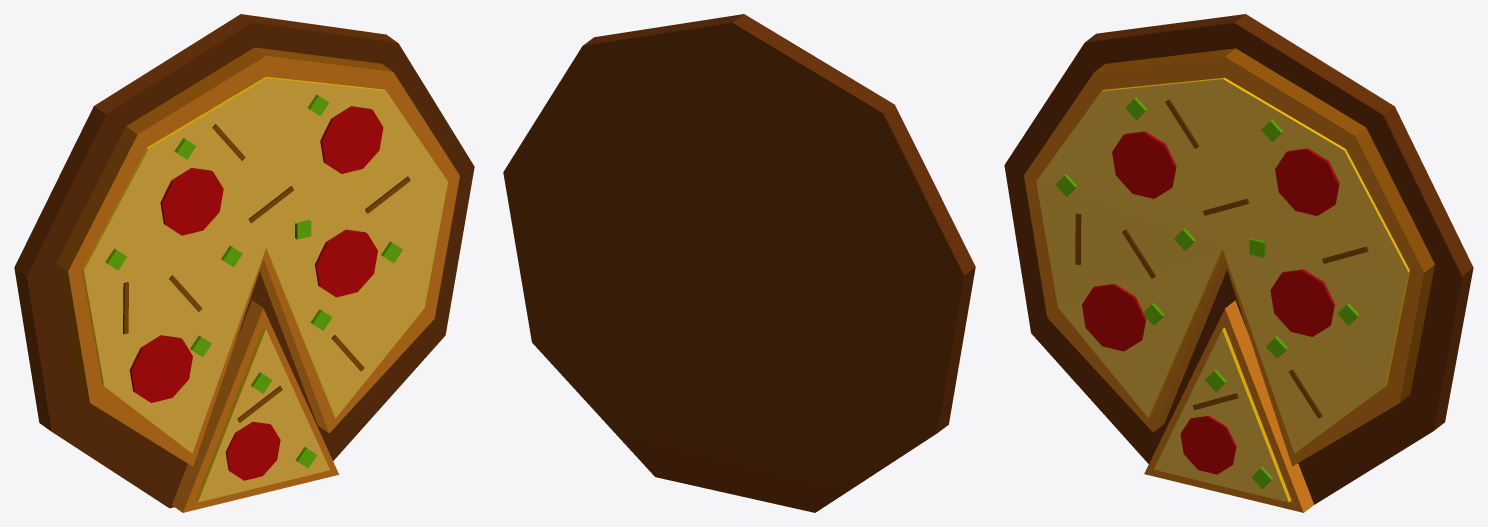
The model's file is Pizza.fbx.
3 renders of one model, left to right at view 1: azimuth 30°, elevation 25°; view 2: azimuth 150°, elevation 25°; view 3: azimuth 330°, elevation 25°, orthographic.
Visible parts, largest first — view 1: Cube.010; view 2: Cube.010; view 3: Cube.010.
Boxes of the visible parts, bbox=[...] form: Cube.010: bbox=[14, 14, 474, 512]; Cube.010: bbox=[503, 14, 975, 512]; Cube.010: bbox=[1004, 14, 1473, 512].
Bounding box in the file's own units: 1197 × 1180 × 146.
